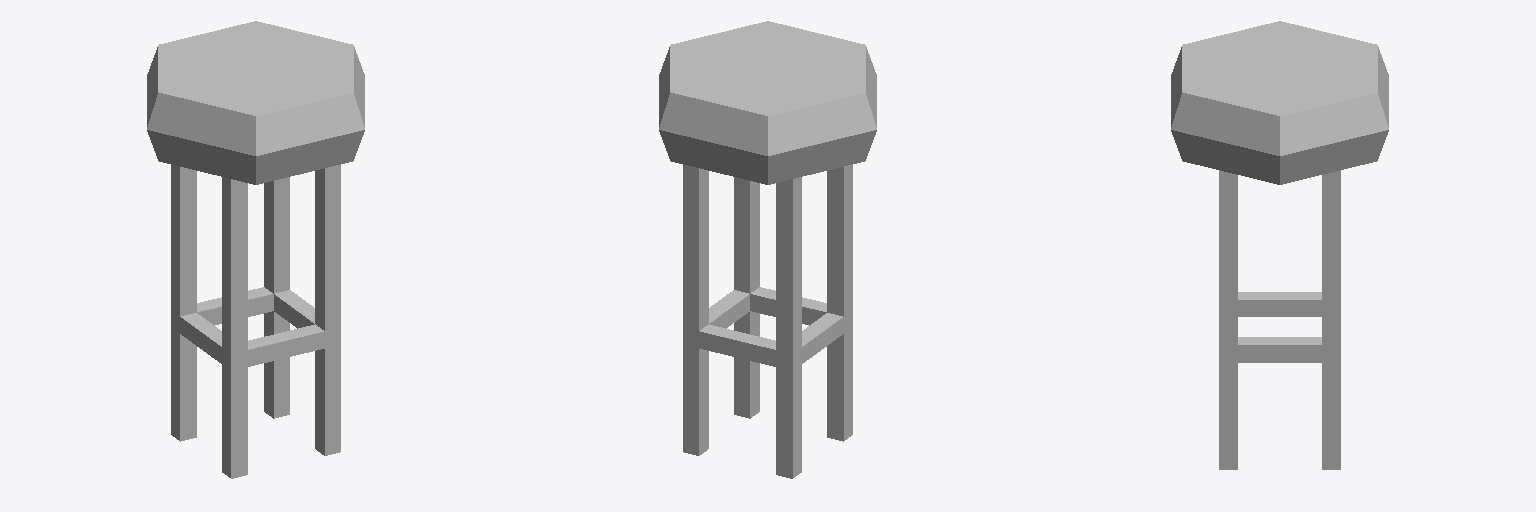
The model's file is stoolBar.obj.
3 renders of one model, left to right at view 1: azimuth 30°, elevation 25°; view 2: azimuth 150°, elevation 25°; view 3: azimuth 270°, elevation 25°, orthographic.
Parts seen in each view (by area): view 1: stoolBar; view 2: stoolBar; view 3: stoolBar.
Part boxes in pixels (x1,y1,x2,y2): stoolBar: (147,21,364,478); stoolBar: (659,21,876,478); stoolBar: (1171,21,1388,469).
Bounding box in the file's own units: 0.2654 × 0.435 × 0.2299.